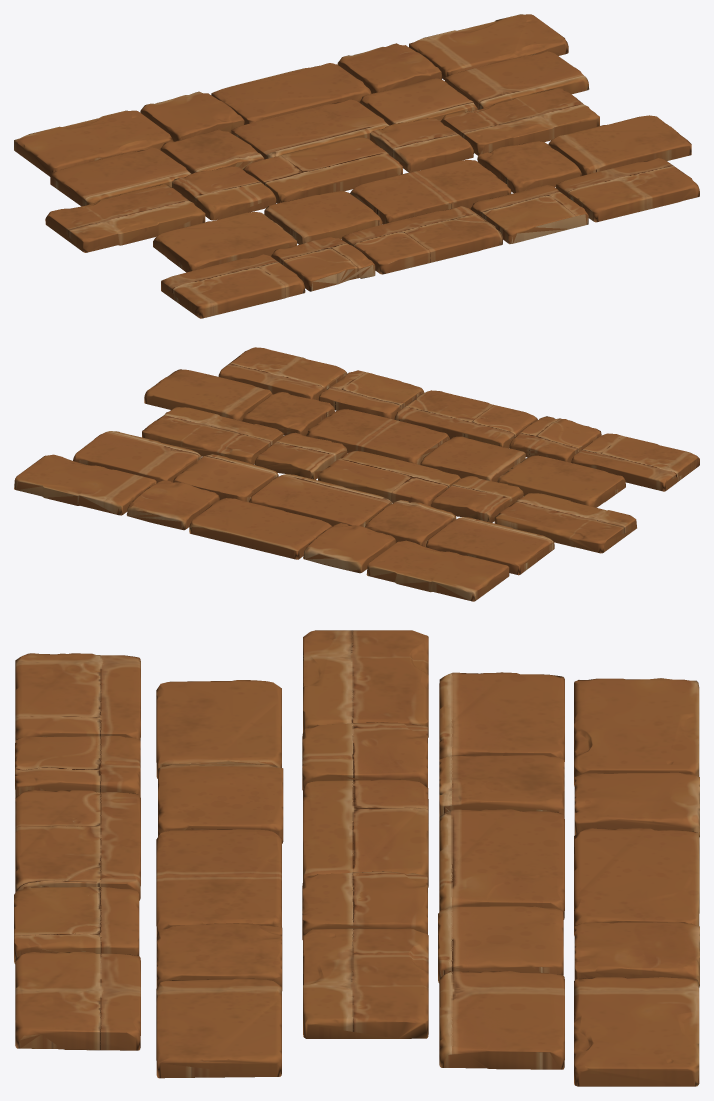
File: wreck.fbx
The picture shows the model from 3 angles, top to bottom: view 1: azimuth 30°, elevation 25°; view 2: azimuth 150°, elevation 25°; view 3: azimuth 270°, elevation 25°; orthographic projection. The views are drawn at different scales.
Parts seen in each view (by area): view 1: wreck_022, wreck_002, wreck_012, wreck_003, wreck_005, wreck_018, wreck_023, wreck_000, wreck_010, wreck_014, wreck_019, wreck_004 (+13 smaller); view 2: wreck_023, wreck_014, wreck_022, wreck_010, wreck_003, wreck_002, wreck_012, wreck_005, wreck_018, wreck_013, wreck_024, wreck_000 (+13 smaller); view 3: wreck_003, wreck_010, wreck_004, wreck_013, wreck_002, wreck_000, wreck_009, wreck_005, wreck_023, wreck_022, wreck_014, wreck_012 (+13 smaller).
Boxes of the visible parts, x1=… form: wreck_022: x1=45, y1=184, x2=205, y2=252; wreck_002: x1=342, y1=206, x2=502, y2=274; wreck_012: x1=243, y1=137, x2=402, y2=203; wreck_003: x1=440, y1=88, x2=599, y2=155; wreck_005: x1=350, y1=160, x2=511, y2=224; wreck_018: x1=161, y1=254, x2=305, y2=318; wreck_023: x1=14, y1=110, x2=173, y2=176; wreck_000: x1=556, y1=158, x2=699, y2=222; wreck_010: x1=409, y1=14, x2=568, y2=80; wreck_014: x1=211, y1=63, x2=371, y2=124; wreck_019: x1=153, y1=211, x2=296, y2=272; wreck_004: x1=548, y1=115, x2=691, y2=175; wreck_023: x1=366, y1=540, x2=509, y2=601; wreck_014: x1=189, y1=498, x2=332, y2=559; wreck_022: x1=494, y1=492, x2=636, y2=553; wreck_010: x1=14, y1=454, x2=156, y2=515; wreck_003: x1=142, y1=406, x2=283, y2=464; wreck_002: x1=394, y1=390, x2=537, y2=448; wreck_012: x1=318, y1=451, x2=460, y2=506; wreck_005: x1=306, y1=409, x2=449, y2=464; wreck_018: x1=571, y1=433, x2=699, y2=491; wreck_013: x1=249, y1=474, x2=392, y2=527; wreck_024: x1=426, y1=517, x2=554, y2=575; wreck_000: x1=218, y1=347, x2=347, y2=400; wreck_003: x1=303, y1=929, x2=428, y2=1038; wreck_010: x1=574, y1=977, x2=699, y2=1086; wreck_004: x1=156, y1=978, x2=281, y2=1078; wreck_013: x1=439, y1=809, x2=564, y2=919; wreck_002: x1=15, y1=790, x2=140, y2=900; wreck_000: x1=15, y1=952, x2=140, y2=1050; wreck_009: x1=439, y1=971, x2=564, y2=1069; wreck_005: x1=156, y1=829, x2=281, y2=936; wreck_023: x1=574, y1=678, x2=699, y2=786; wreck_022: x1=303, y1=630, x2=428, y2=737; wreck_014: x1=574, y1=828, x2=699, y2=935; wreck_012: x1=303, y1=779, x2=428, y2=887.
Size of the model in its own units: 839 by 562 by 30.06.
